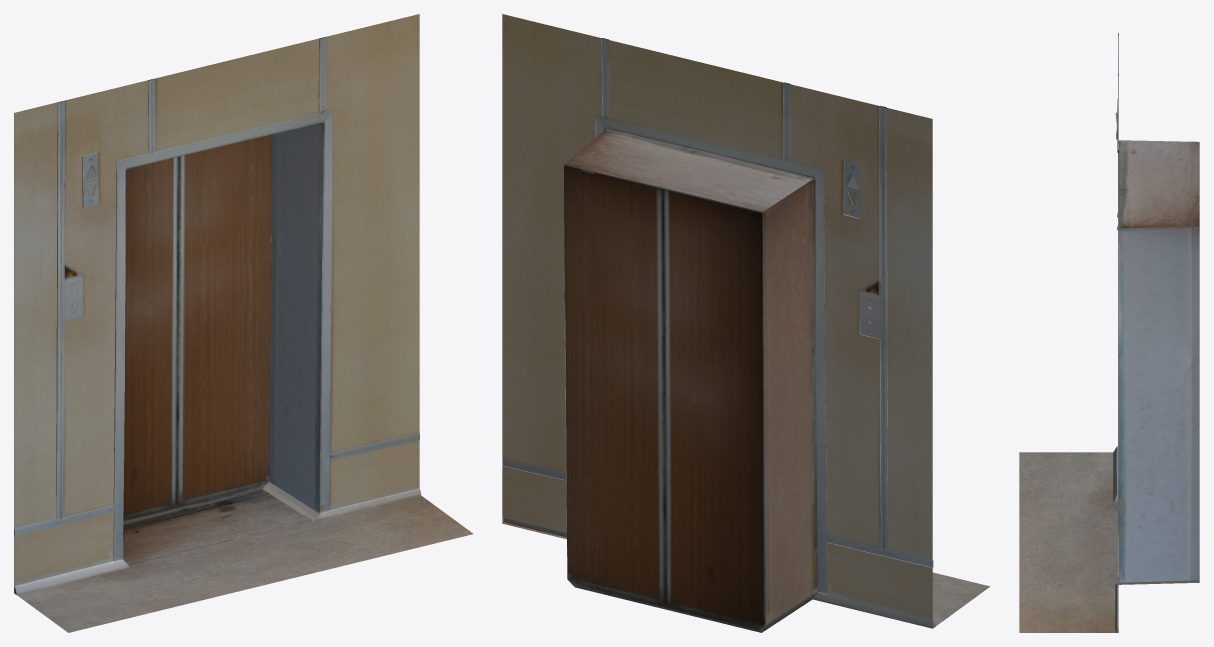
Rendered from old_ussr_elevator_entrance_game_ready_remade.glb.
The picture shows the model from 3 angles, left to right: view 1: azimuth 30°, elevation 25°; view 2: azimuth 150°, elevation 25°; view 3: azimuth 270°, elevation 25°; orthographic projection. The views are drawn at different scales.
Visible parts, largest first — view 1: Cube; view 2: Cube; view 3: Cube.
Boxes of the visible parts, x1=… form: Cube: x1=14, y1=14, x2=473, y2=632; Cube: x1=502, y1=14, x2=990, y2=632; Cube: x1=1019, y1=33, x2=1199, y2=632.
Bounding box in the file's own units: 4.4 × 4.98 × 1.86.
1 material, 1 textured.
